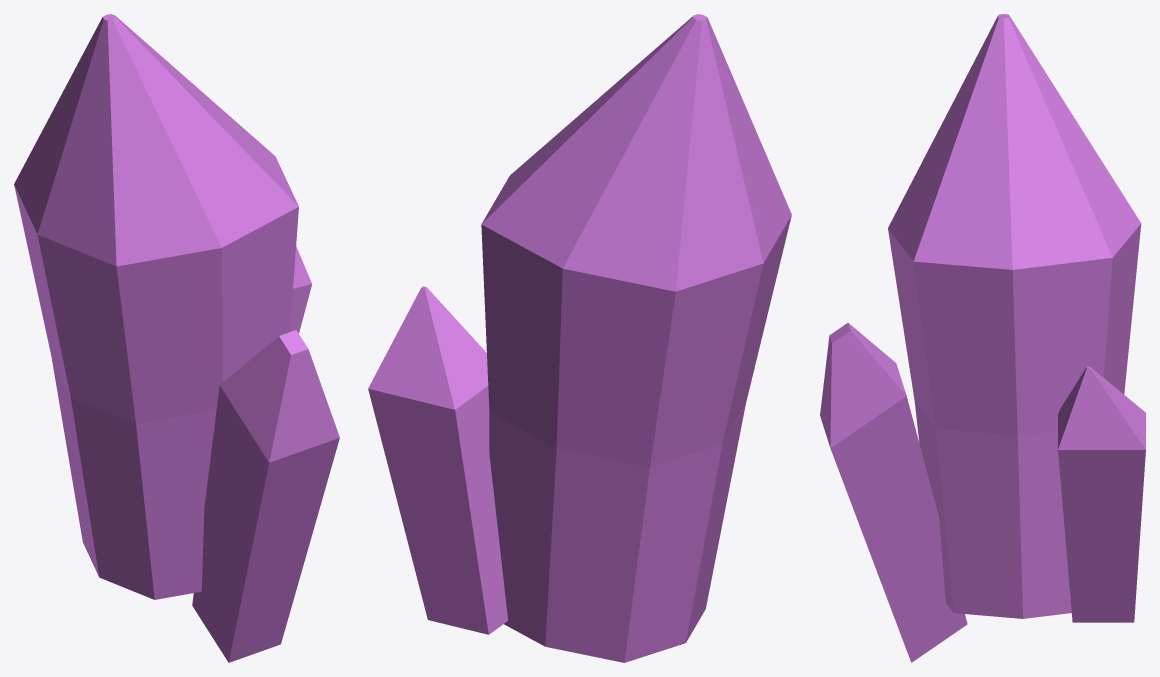
The model's file is Crystals1.fbx.
3 renders of one model, left to right at view 1: azimuth 30°, elevation 25°; view 2: azimuth 150°, elevation 25°; view 3: azimuth 270°, elevation 25°, orthographic. The views are drawn at different scales.
Parts seen in each view (by area): view 1: Crystals1; view 2: Crystals1; view 3: Crystals1.
Boxes of the visible parts, x1,y1,x2,y2 form: Crystals1: (14, 14, 339, 662); Crystals1: (368, 14, 791, 662); Crystals1: (820, 14, 1145, 662).
Size of the model in its own units: 3.19 by 3.2 by 6.41.
